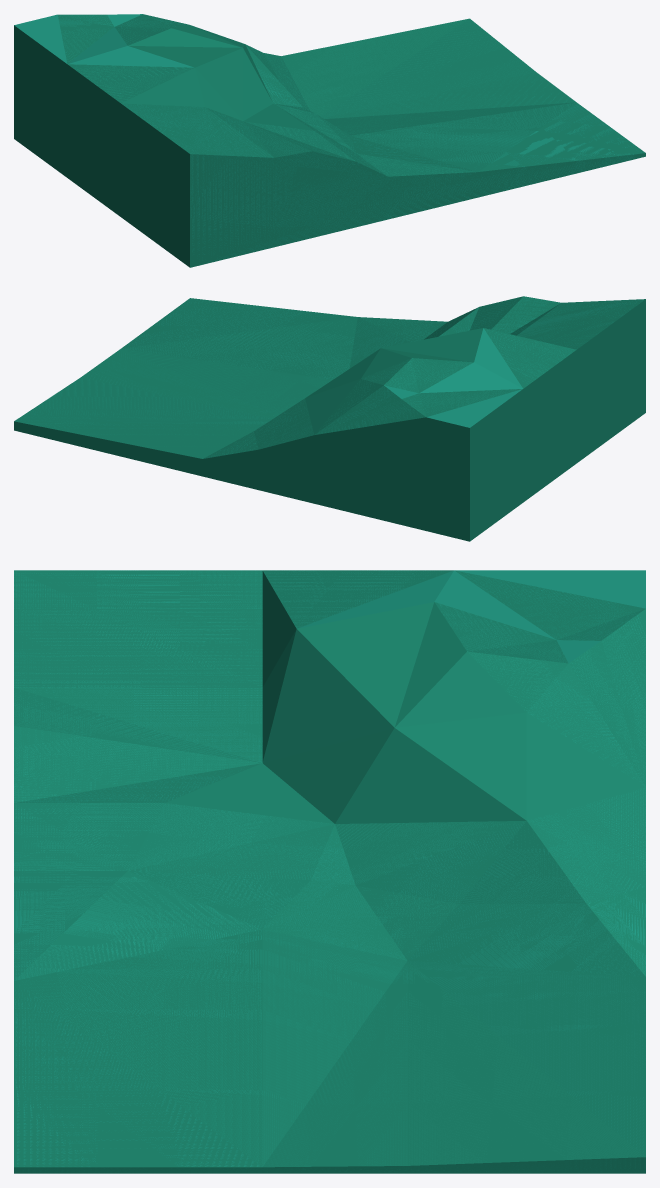
Rendered from one.dae.
3 views of the same model, one above another, from view 1: azimuth 30°, elevation 25°; view 2: azimuth 150°, elevation 25°; view 3: azimuth 270°, elevation 25° (orthographic). The views are drawn at different scales.
Parts seen in each view (by area): view 1: SketchUp (×8); view 2: SketchUp (×8); view 3: SketchUp (×7).
Part boxes in pixels (x1,y1,x2,y2): SketchUp (×8): (14,14,645,267); SketchUp (×8): (14,296,645,541); SketchUp (×7): (14,570,645,1173).
Bounding box in the file's own units: 2761 × 1847 × 711.
